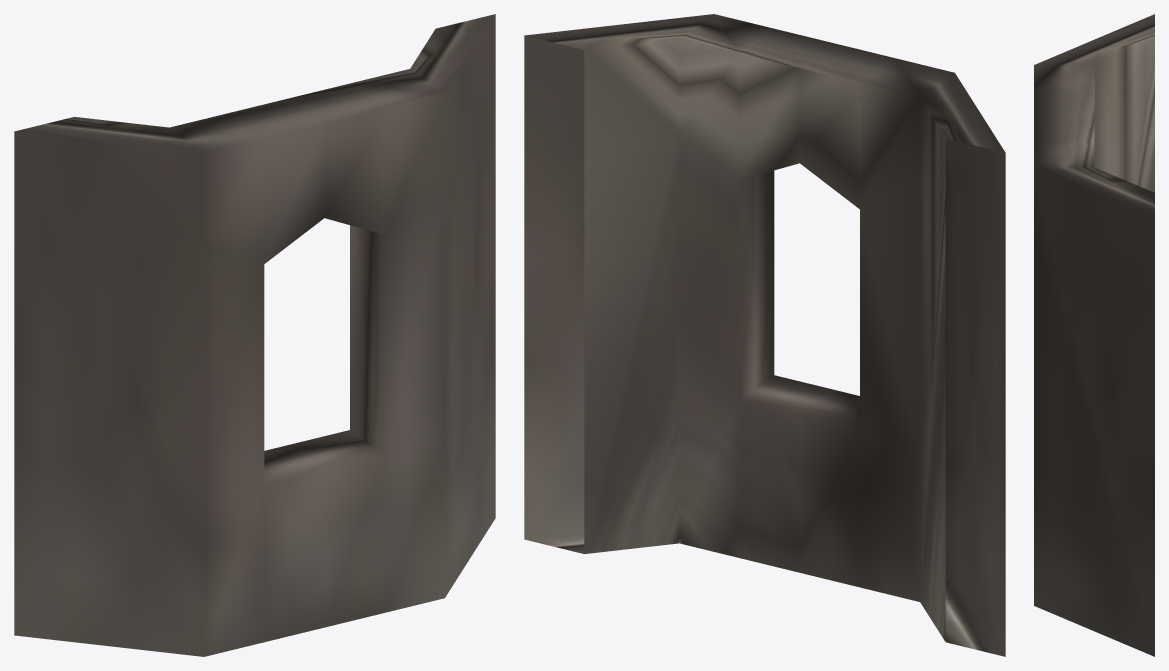
Rendered from towerblock_window_wall.glb.
3 renders of one model, left to right at view 1: azimuth 30°, elevation 25°; view 2: azimuth 150°, elevation 25°; view 3: azimuth 270°, elevation 25°, orthographic. The views are drawn at different scales.
Parts seen in each view (by area): view 1: towerblock_window_wall; view 2: towerblock_window_wall; view 3: towerblock_window_wall.
Boxes of the visible parts, x1,y1,x2,y2 form: towerblock_window_wall: (14,14,495,656); towerblock_window_wall: (524,14,1005,656); towerblock_window_wall: (1034,14,1154,656).
Size of the model in its own units: 8 by 8 by 2.
Materials: 1 (1 with a texture image).
